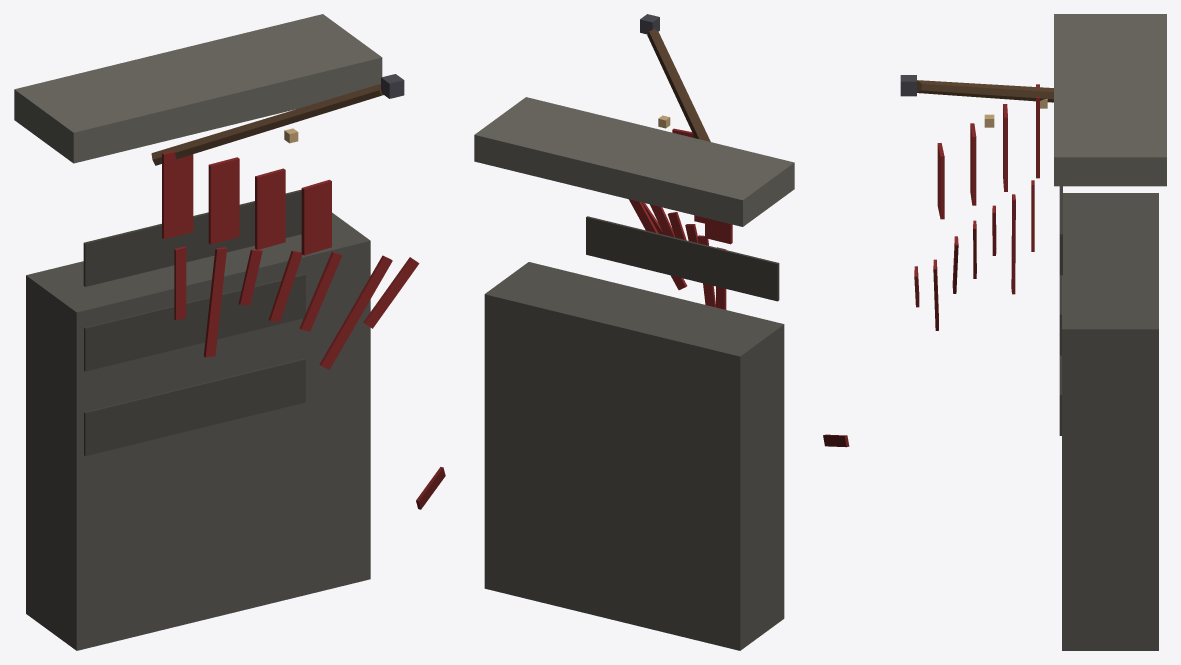
The model's file is prop_trace_banner_up.glb.
The picture shows the model from 3 angles, left to right: view 1: azimuth 30°, elevation 25°; view 2: azimuth 150°, elevation 25°; view 3: azimuth 270°, elevation 25°; orthographic projection. The views are drawn at different scales.
Visible parts, largest first — view 1: prop_trace_banner_up; view 2: prop_trace_banner_up; view 3: prop_trace_banner_up.
Boxes of the visible parts, <box> form: prop_trace_banner_up: <box>14,14,445,650</box>; prop_trace_banner_up: <box>474,14,794,650</box>; prop_trace_banner_up: <box>823,14,1166,650</box>.
Bounding box in the file's own units: 2.1 × 3.73 × 2.13.
